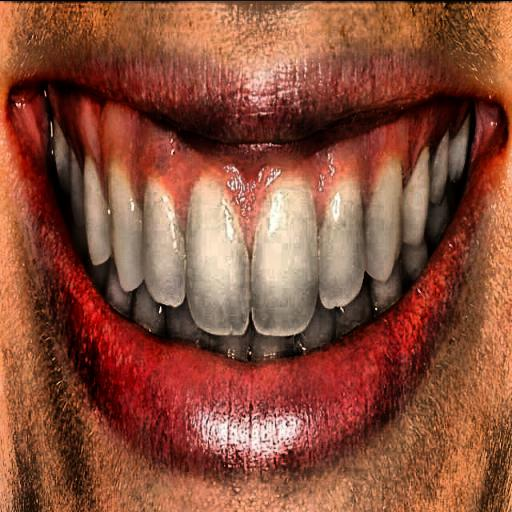Healthy: (20, 34, 455, 393)
